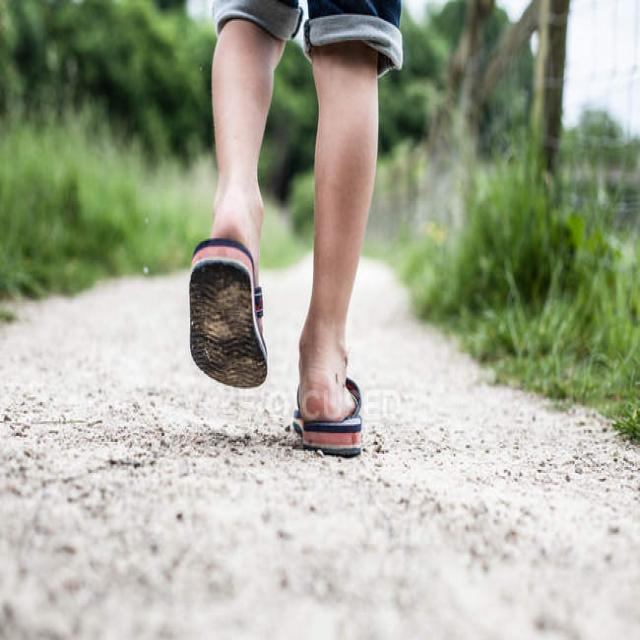No_Shoe: (179, 194, 269, 410), (291, 329, 369, 453)
